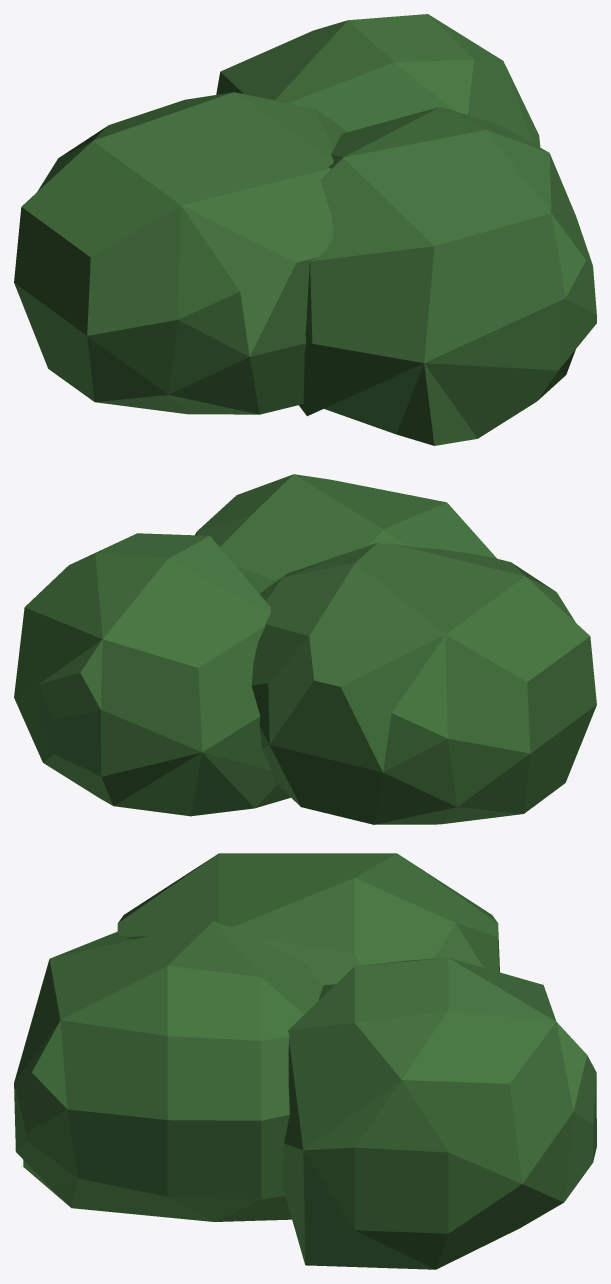
File: bush.fbx
The picture shows the model from 3 angles, top to bottom: view 1: azimuth 30°, elevation 25°; view 2: azimuth 150°, elevation 25°; view 3: azimuth 270°, elevation 25°; orthographic projection. The views are drawn at different scales.
Visible parts, largest first — view 1: bush; view 2: bush; view 3: bush.
Boxes of the visible parts, x1,y1,x2,y2 form: bush: (14,14,596,445); bush: (14,474,596,824); bush: (14,853,596,1269).
Size of the model in its own units: 287 by 133 by 274.
